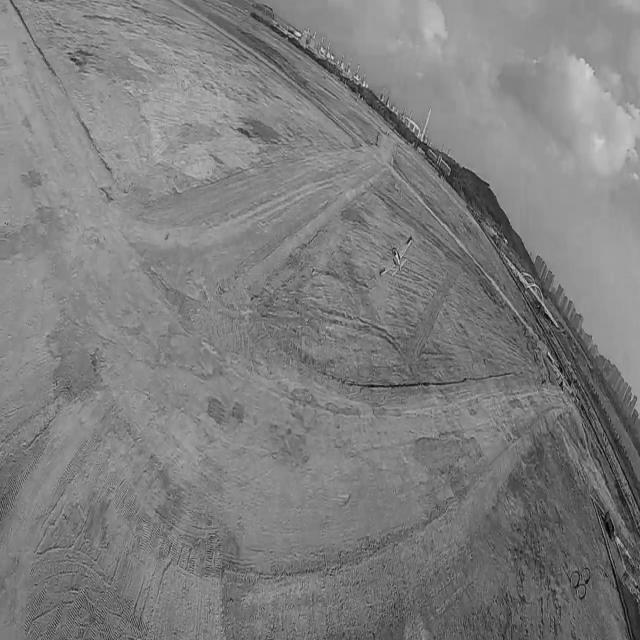iha: (370, 234, 408, 278)
